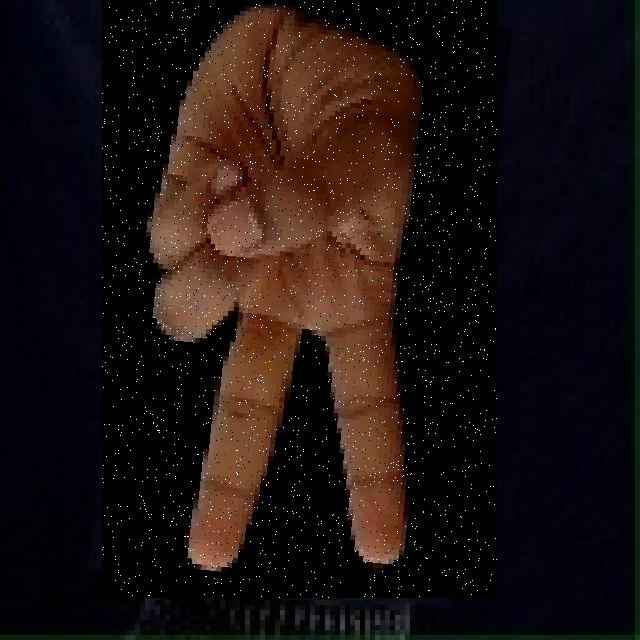No: (102, 0, 497, 598)
